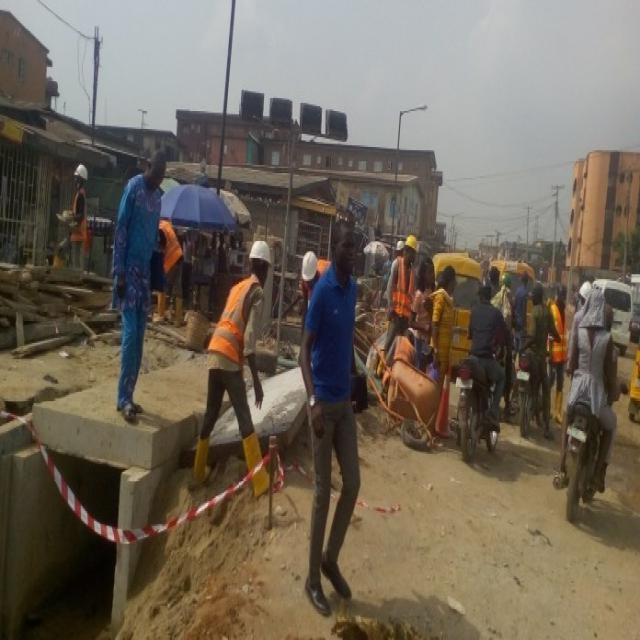Con_Casco: (250, 236, 271, 274)
Con_Chaleco: (210, 279, 266, 370)
Sin_Chaleco: (305, 279, 356, 398), (114, 181, 162, 296)
